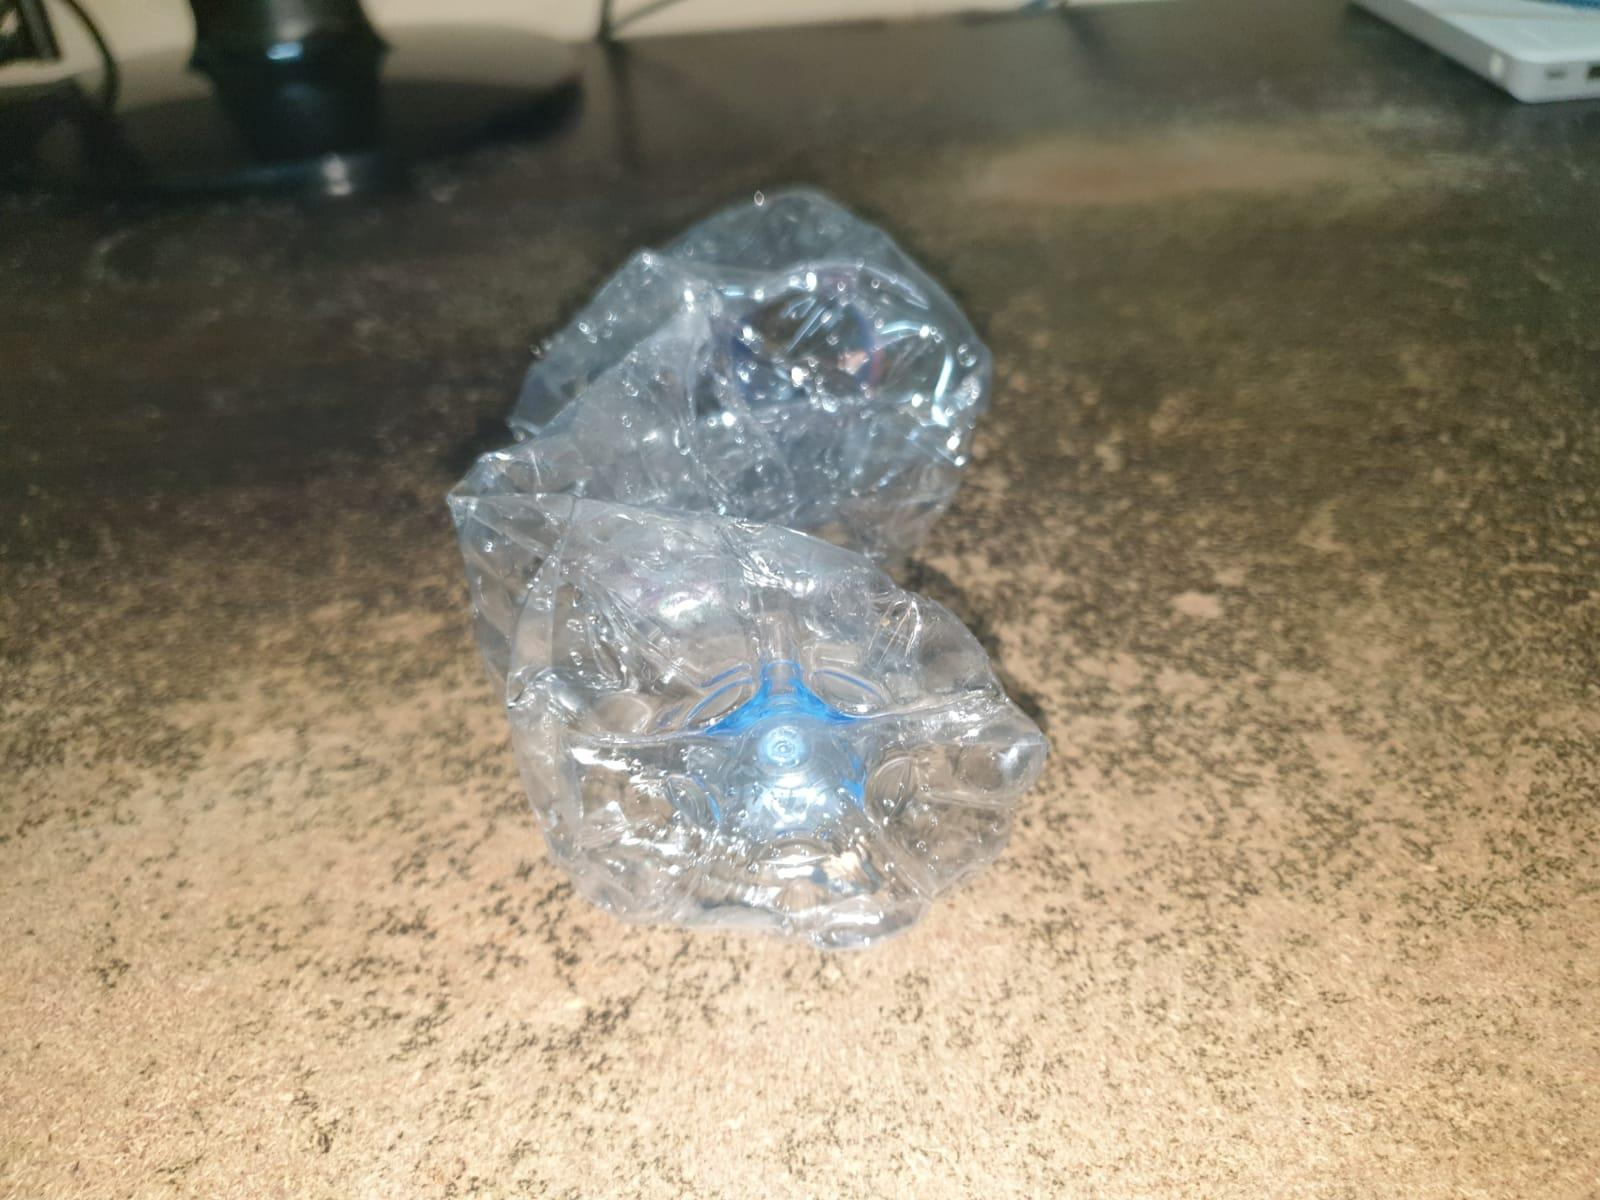bottle: (446, 182, 1051, 961)
